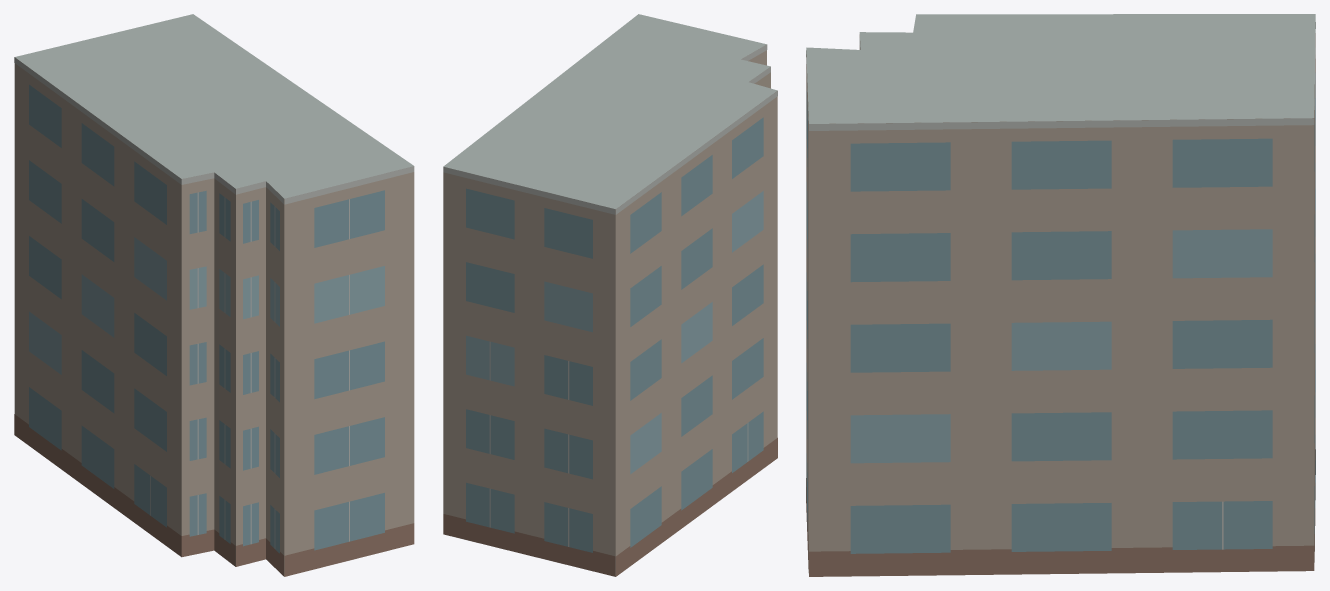
The model's file is survey-upis-32964136.glb.
3 renders of one model, left to right at view 1: azimuth 30°, elevation 25°; view 2: azimuth 150°, elevation 25°; view 3: azimuth 270°, elevation 25°, orthographic. The views are drawn at different scales.
Parts seen in each view (by area): view 1: survey-upis-32964136.tmp; view 2: survey-upis-32964136.tmp; view 3: survey-upis-32964136.tmp.
Part boxes in pixels (x1,y1,x2,y2): survey-upis-32964136.tmp: (14, 14, 414, 576); survey-upis-32964136.tmp: (443, 14, 777, 576); survey-upis-32964136.tmp: (806, 14, 1315, 576).
Size of the model in its own units: 8.19 by 15.7 by 16.02.
